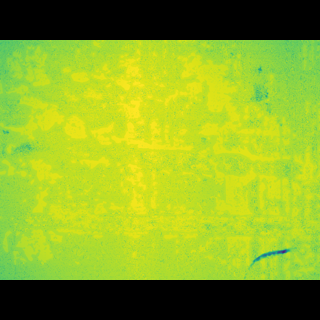Loch: (0, 71, 320, 189), (18, 193, 320, 216), (3, 217, 233, 247)
